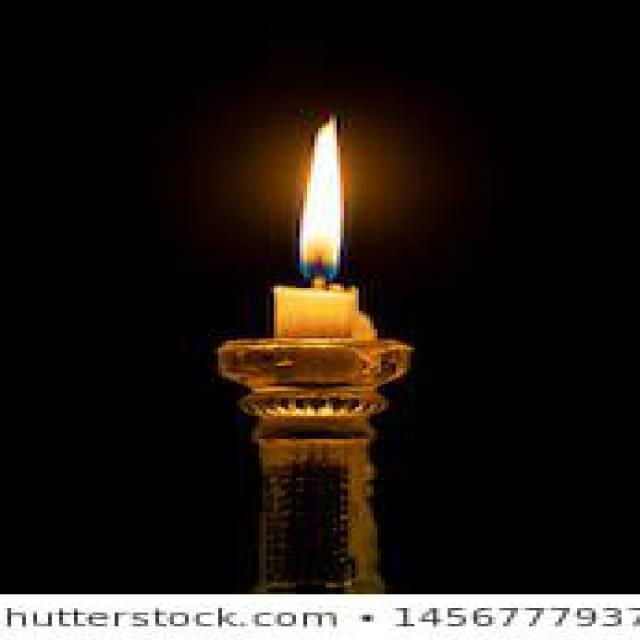Fire: (302, 116, 342, 284)
